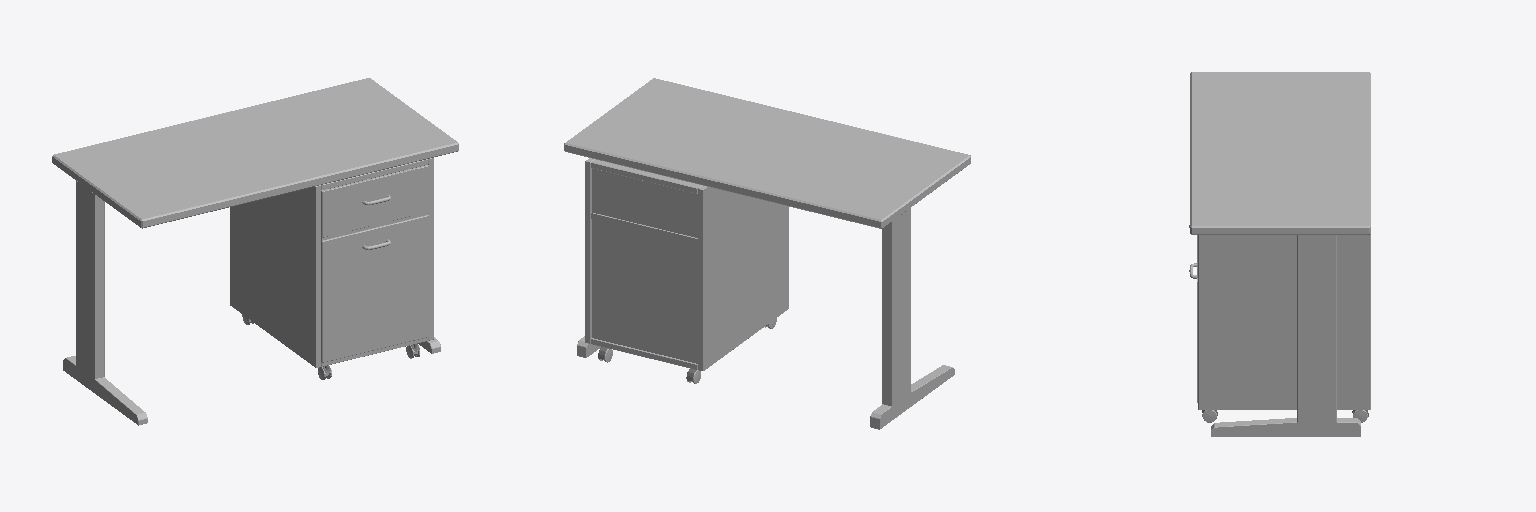
Rendered from Table.obj.
3 views of the same model, side by side, from view 1: azimuth 30°, elevation 25°; view 2: azimuth 150°, elevation 25°; view 3: azimuth 270°, elevation 25° (orthographic).
Visible parts, largest first — view 1: polySurface20 Table_mesh, Table_mesh polySurface21; view 2: polySurface20 Table_mesh, Table_mesh polySurface21; view 3: polySurface20 Table_mesh, Table_mesh polySurface21.
Boxes of the visible parts, x1,y1,x2,y2 form: polySurface20 Table_mesh: [52, 78, 458, 425]; Table_mesh polySurface21: [230, 158, 433, 379]; polySurface20 Table_mesh: [564, 78, 970, 429]; Table_mesh polySurface21: [585, 158, 788, 383]; polySurface20 Table_mesh: [1190, 72, 1370, 436]; Table_mesh polySurface21: [1189, 225, 1370, 422].
Bounding box in the file's own units: 7.56 × 4.86 × 3.72.